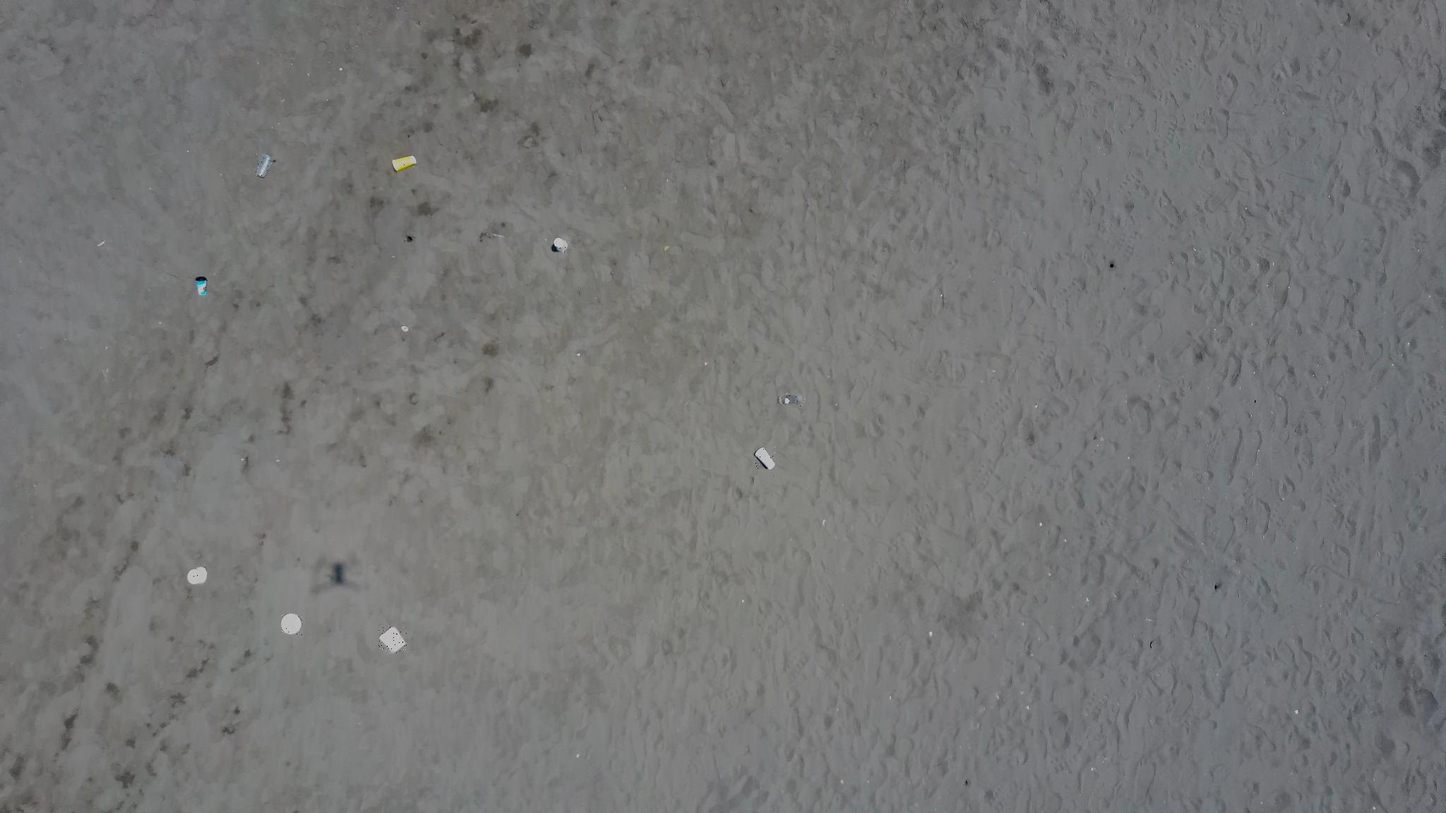Garbage: (379, 626, 405, 651), (754, 448, 775, 469), (281, 613, 301, 633), (256, 153, 273, 176), (393, 155, 416, 171), (186, 567, 205, 584), (331, 561, 344, 585), (551, 237, 568, 252), (779, 394, 803, 404), (195, 277, 206, 296), (479, 231, 503, 239), (400, 325, 407, 332), (97, 241, 105, 247)
